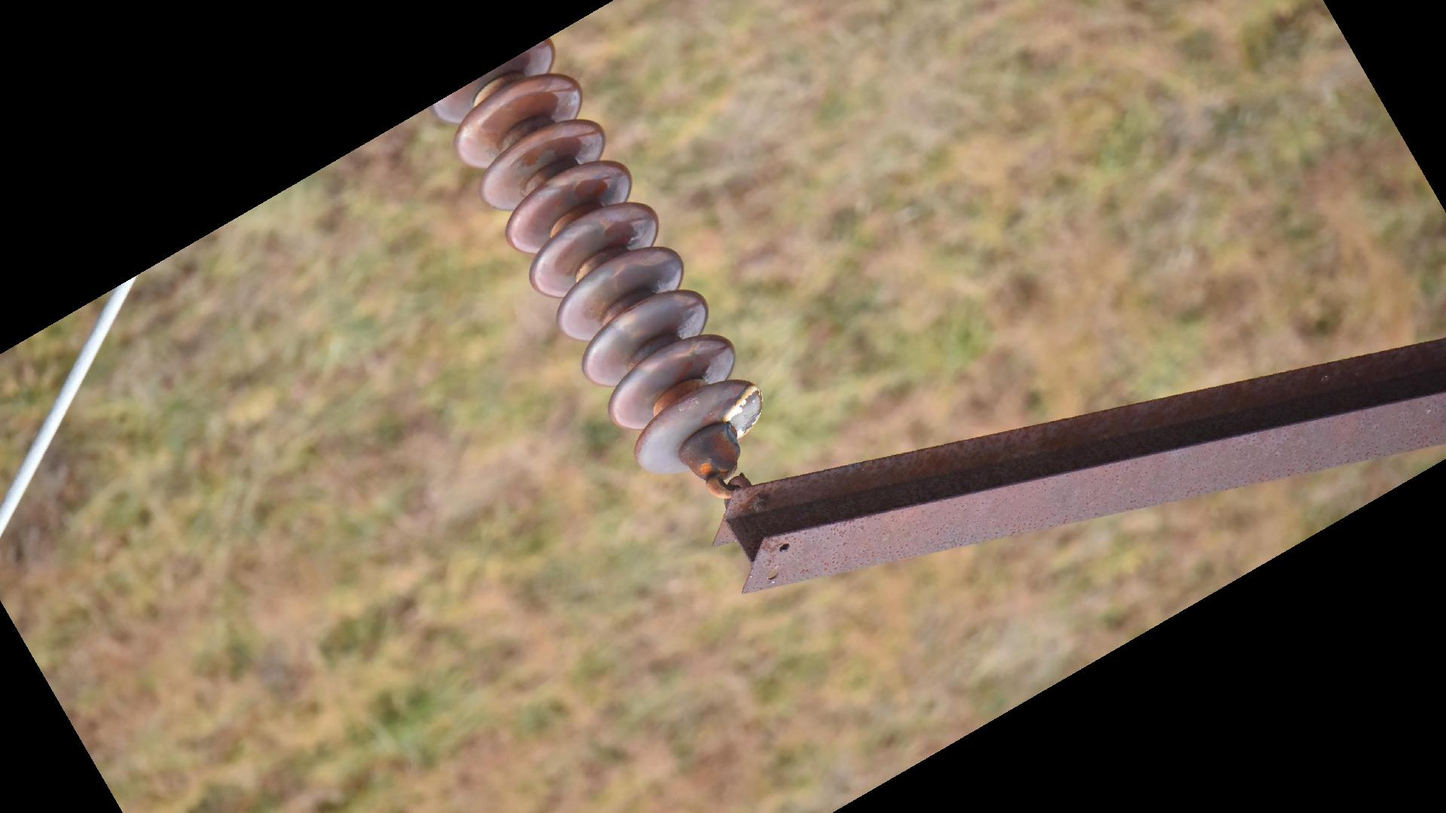insulator: (423, 33, 772, 483)
insulator_flashover: (721, 382, 766, 440)
